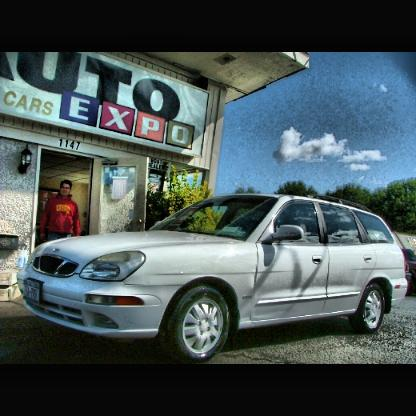Daewoo Nubira Wagon 2002: (20, 194, 409, 364)
